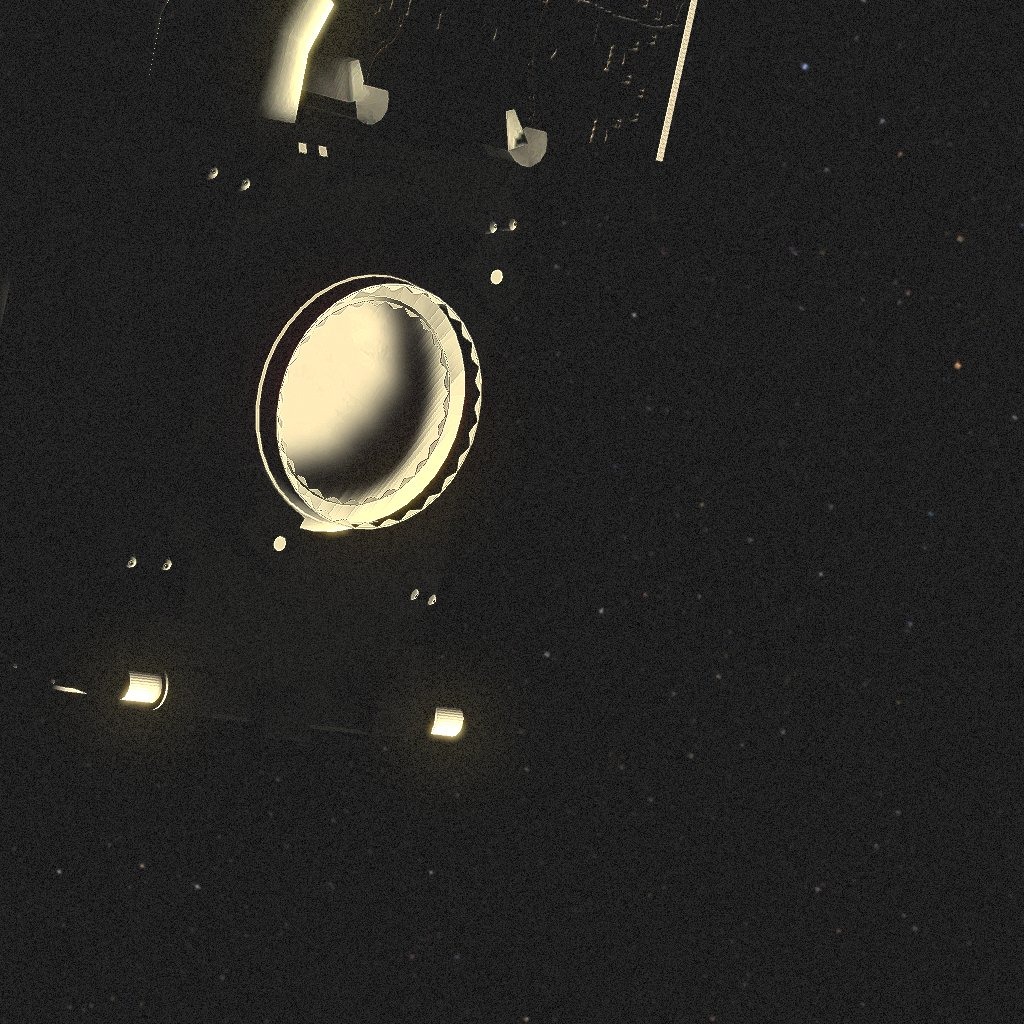proba_3_csc: (0, 0, 697, 744)
